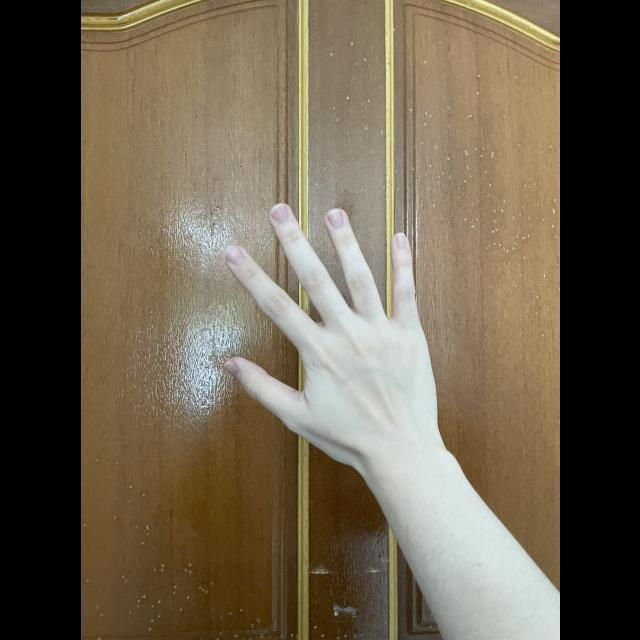bare_hand: (221, 200, 440, 449)
